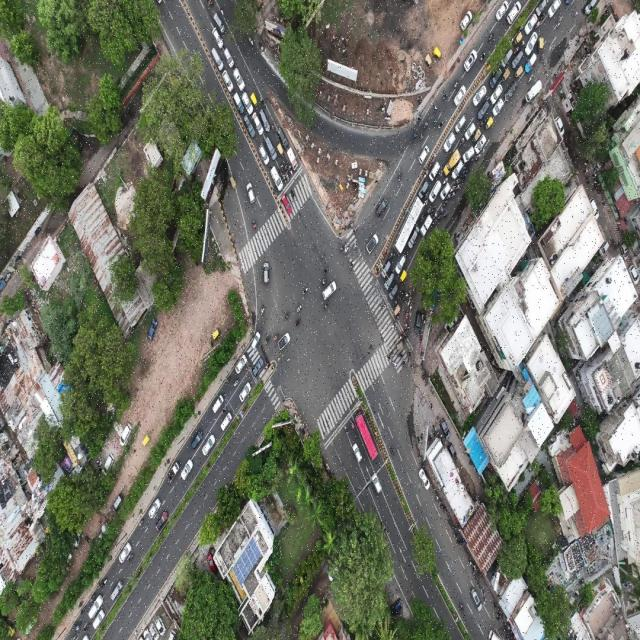3W: (209, 326, 219, 345), (141, 433, 151, 447), (227, 175, 235, 191), (513, 33, 521, 49), (250, 92, 259, 106), (486, 118, 494, 132), (537, 38, 546, 50), (276, 142, 283, 157), (514, 66, 523, 77), (425, 54, 432, 68), (432, 48, 440, 60), (400, 270, 407, 283), (394, 306, 400, 319), (503, 69, 510, 79)
Bus: (396, 196, 424, 253), (355, 412, 378, 461)
Cars: (87, 594, 103, 617), (523, 84, 539, 107), (467, 588, 483, 611), (110, 576, 123, 604), (372, 472, 385, 500), (364, 231, 379, 254), (210, 46, 223, 72), (269, 165, 282, 191), (505, 80, 518, 106), (259, 106, 271, 134), (419, 142, 432, 167), (119, 421, 132, 446), (202, 434, 216, 456), (506, 1, 520, 23), (117, 542, 132, 562), (471, 87, 486, 107), (256, 144, 269, 167), (250, 330, 263, 353), (493, 0, 507, 21), (181, 458, 193, 482), (488, 69, 501, 91), (464, 49, 477, 71), (419, 466, 430, 492), (155, 509, 167, 532), (430, 180, 442, 203), (222, 70, 233, 95), (243, 113, 254, 138), (148, 497, 161, 518), (231, 91, 242, 115), (223, 44, 235, 66), (191, 428, 204, 448), (93, 610, 106, 630), (239, 380, 252, 400), (524, 14, 537, 34), (443, 132, 456, 152), (453, 85, 466, 104), (376, 198, 389, 217), (280, 194, 291, 216), (323, 281, 338, 297), (464, 121, 476, 141), (277, 333, 290, 351), (533, 0, 546, 18), (215, 9, 225, 32), (212, 395, 224, 414), (526, 54, 538, 73), (460, 10, 472, 29), (548, 0, 561, 17), (492, 98, 504, 116), (247, 182, 256, 206), (251, 358, 263, 376), (500, 51, 511, 70), (277, 127, 288, 146), (235, 354, 247, 371), (221, 414, 233, 431), (454, 116, 466, 133), (262, 262, 270, 287), (475, 135, 486, 153), (352, 443, 361, 464), (440, 184, 451, 201), (112, 493, 123, 510), (414, 311, 422, 334), (462, 147, 474, 162), (430, 162, 439, 181), (419, 181, 428, 198), (389, 285, 399, 300), (382, 261, 391, 277), (260, 304, 265, 314)
LCV: (444, 148, 461, 174), (285, 148, 298, 173), (167, 461, 180, 482)
M2W: (137, 518, 146, 530), (396, 351, 405, 362), (442, 90, 450, 102), (74, 619, 82, 631), (557, 18, 564, 31), (296, 304, 304, 315), (352, 240, 359, 252), (295, 318, 304, 327), (390, 441, 395, 457), (285, 311, 291, 324), (251, 220, 257, 233), (349, 420, 355, 433), (322, 301, 330, 310), (386, 345, 392, 357), (343, 424, 349, 436), (347, 261, 354, 271), (320, 251, 326, 262), (419, 131, 425, 142), (103, 577, 109, 588), (438, 119, 444, 130), (249, 35, 255, 46), (353, 225, 360, 234), (289, 189, 294, 201), (454, 79, 460, 89), (433, 103, 439, 113), (432, 116, 438, 126), (265, 335, 271, 345), (338, 243, 345, 251), (225, 377, 231, 386), (423, 121, 429, 130), (388, 252, 394, 261), (443, 211, 449, 220), (422, 172, 428, 181), (324, 264, 330, 273), (397, 172, 402, 182), (403, 321, 408, 331), (458, 138, 463, 148), (481, 52, 486, 62), (489, 32, 494, 42), (412, 130, 417, 140), (233, 379, 238, 389), (83, 624, 90, 631), (302, 287, 308, 295), (398, 333, 404, 341), (408, 348, 412, 360), (403, 311, 408, 320), (407, 297, 412, 306), (480, 119, 485, 128), (433, 217, 439, 224), (443, 177, 448, 185), (274, 331, 278, 341), (412, 286, 416, 295), (404, 292, 410, 298), (454, 185, 460, 191), (400, 282, 405, 289), (425, 209, 430, 216), (437, 209, 442, 216), (286, 174, 290, 182), (282, 174, 286, 182), (430, 208, 436, 213), (424, 201, 429, 207), (441, 204, 445, 211), (460, 173, 464, 180), (392, 301, 396, 307), (395, 321, 399, 327), (469, 161, 473, 167), (400, 297, 404, 303), (463, 166, 467, 171)
